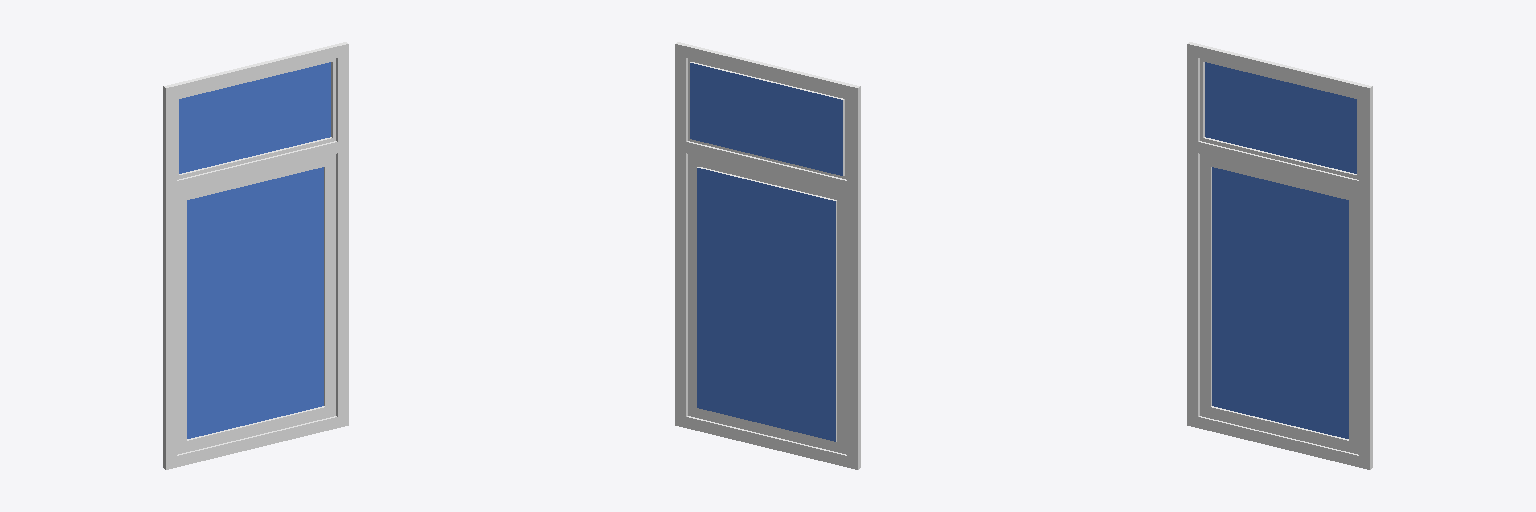
3 views of the same model, side by side, from view 1: azimuth 30°, elevation 25°; view 2: azimuth 150°, elevation 25°; view 3: azimuth 330°, elevation 25° (orthographic).
Visible parts, largest first — view 1: Mesh1_Group1_Series_680_Thermally_Broken_Aliminium_Window_and_D, Mesh3_Group3_Group2_Series_680_Thermally_Broken_Aliminium_Windo, Mesh2_Group1_Series_680_Thermally_Broken_Aliminium_Window_and_D; view 2: Mesh1_Group1_Series_680_Thermally_Broken_Aliminium_Window_and_D, Mesh3_Group3_Group2_Series_680_Thermally_Broken_Aliminium_Windo, Mesh2_Group1_Series_680_Thermally_Broken_Aliminium_Window_and_D; view 3: Mesh1_Group1_Series_680_Thermally_Broken_Aliminium_Window_and_D, Mesh3_Group3_Group2_Series_680_Thermally_Broken_Aliminium_Windo, Mesh2_Group1_Series_680_Thermally_Broken_Aliminium_Window_and_D.
Part boxes in pixels (bbox=[...]): Mesh1_Group1_Series_680_Thermally_Broken_Aliminium_Window_and_D: bbox=[187, 167, 323, 438]; Mesh3_Group3_Group2_Series_680_Thermally_Broken_Aliminium_Windo: bbox=[163, 42, 348, 469]; Mesh2_Group1_Series_680_Thermally_Broken_Aliminium_Window_and_D: bbox=[179, 62, 330, 173]; Mesh1_Group1_Series_680_Thermally_Broken_Aliminium_Window_and_D: bbox=[697, 168, 835, 441]; Mesh3_Group3_Group2_Series_680_Thermally_Broken_Aliminium_Windo: bbox=[675, 42, 860, 469]; Mesh2_Group1_Series_680_Thermally_Broken_Aliminium_Window_and_D: bbox=[690, 63, 842, 175]; Mesh1_Group1_Series_680_Thermally_Broken_Aliminium_Window_and_D: bbox=[1212, 167, 1348, 438]; Mesh3_Group3_Group2_Series_680_Thermally_Broken_Aliminium_Windo: bbox=[1187, 42, 1372, 469]; Mesh2_Group1_Series_680_Thermally_Broken_Aliminium_Window_and_D: bbox=[1205, 62, 1356, 173].
Size of the model in its own units: 1.99 by 3.98 by 0.0498.